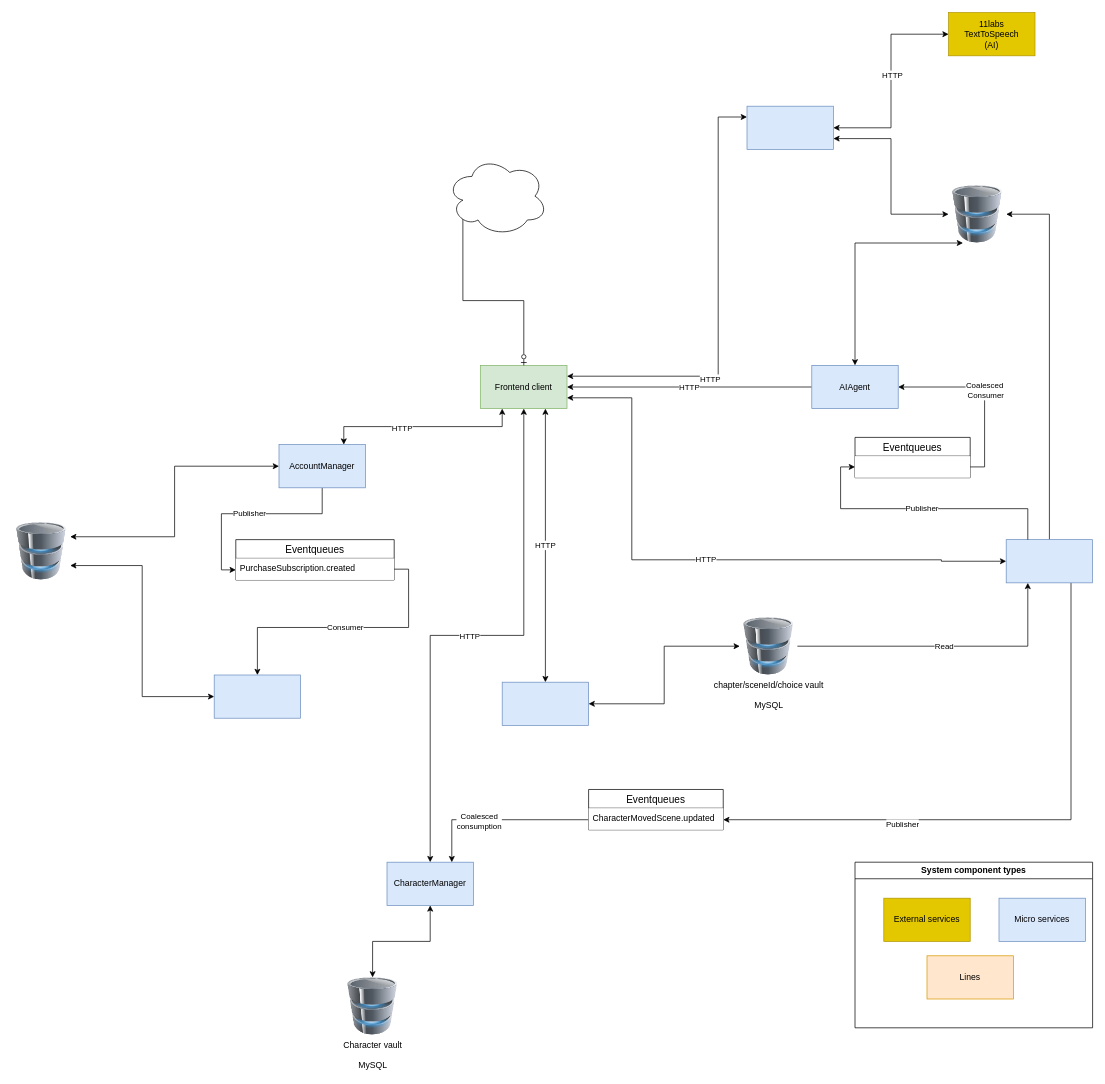
Image size: 1105x1084. Some labels were removed from this diagram. Here are the shapes that lost their labels. From the top down, the centre of each, then its label:
At pixel 789 127: "TextToSpeech Service".
At pixel 497 196: "Token stored in localstorage and state".
At pixel 977 214: "Storypath vault MySQL".
At pixel 912 466: "NewPathChoice.created".
At pixel 41 551: "Account vault MySQL".
At pixel 1049 561: "StoryPathManager".
At pixel 257 696: "PaywallHandler".
At pixel 545 703: "SceneManager".
